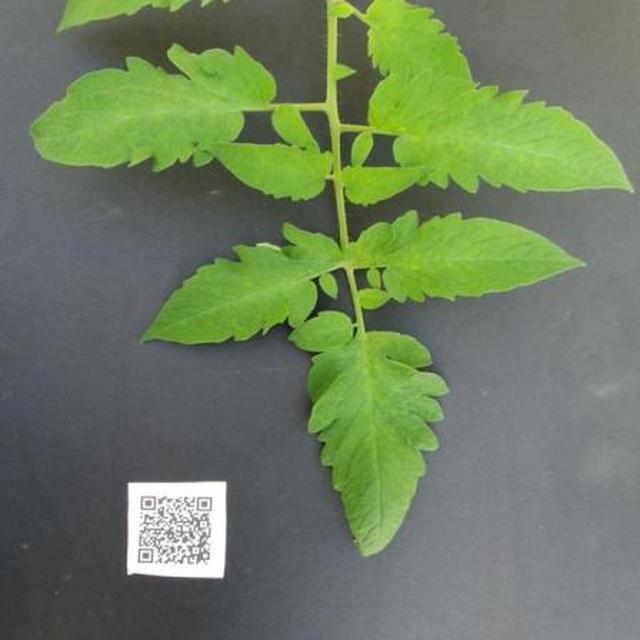Healthy Leaf: (136, 64, 640, 636)
